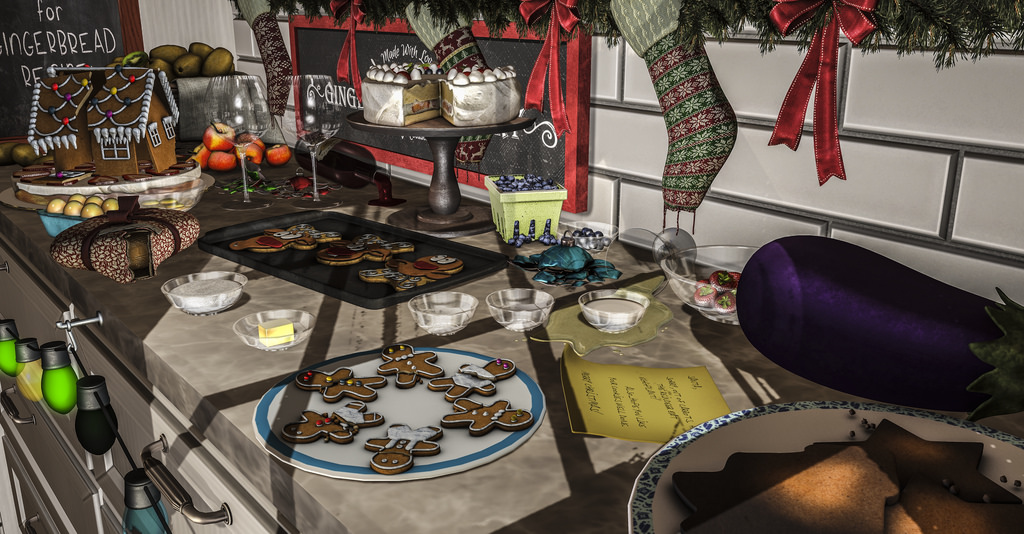glass of water: (555, 267, 647, 336), (401, 287, 483, 336)
